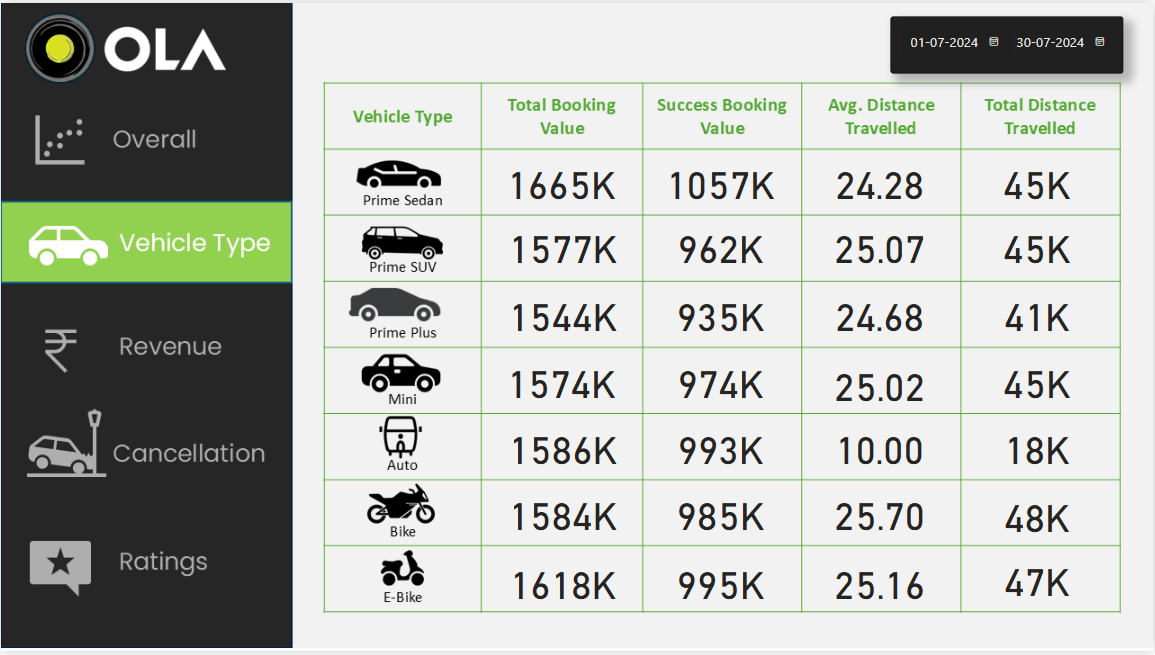

The page's visual inventory and layout, read from the dashboard file:
{"tool":"powerbi","page":{"name":"Vehical Type","canvas":[1280,720],"ordinal":1},"visuals":[{"type":"actionButton","box":[0,336.7,323.7,94.3],"z":0},{"type":"actionButton","box":[0,107.4,323.7,94.3],"z":1000},{"type":"actionButton","box":[0,447.3,323.7,94.3],"z":2000},{"type":"actionButton","box":[0,574.2,323.7,94.3],"z":3000},{"type":"card","fields":{"Values":["Sum(July.Booking_Value)"]},"box":[550,173.3,145,55],"z":4000},{"type":"card","fields":{"Values":["Sum(July.Booking_Value)"]},"box":[551.7,241.7,145,60],"z":5000},{"type":"card","fields":{"Values":["Sum(July.Booking_Value)"]},"box":[551.7,316.7,145,60],"z":6000},{"type":"card","fields":{"Values":["Sum(July.Booking_Value)"]},"box":[550,388.3,145,66.7],"z":7000},{"type":"card","fields":{"Values":["Sum(July.Booking_Value)"]},"box":[551.7,465,145,60],"z":8000},{"type":"card","fields":{"Values":["Sum(July.Booking_Value)"]},"box":[551.7,540,145,56.7],"z":9000},{"type":"card","fields":{"Values":["Sum(July.Booking_Value)"]},"box":[551.7,611.7,145,66.7],"z":10000},{"type":"card","fields":{"Values":["Sum(July.Booking_Value)"]},"box":[726.7,173.3,145,55],"z":11000},{"type":"card","fields":{"Values":["Sum(July.Booking_Value)"]},"box":[726.7,241.7,145,60],"z":12000},{"type":"card","fields":{"Values":["Sum(July.Booking_Value)"]},"box":[726.7,316.7,145,60],"z":13000},{"type":"card","fields":{"Values":["Sum(July.Booking_Value)"]},"box":[726.7,391.7,145,60],"z":14000},{"type":"card","fields":{"Values":["Sum(July.Booking_Value)"]},"box":[726.7,465,145,60],"z":15000},{"type":"card","fields":{"Values":["Sum(July.Booking_Value)"]},"box":[726.7,538.3,145,60],"z":16000},{"type":"card","fields":{"Values":["Sum(July.Booking_Value)"]},"box":[726.7,615,145,60],"z":17000},{"type":"card","fields":{"Values":["Avg(July.Ride_Distance)"]},"box":[903.3,173.3,145,55],"z":18000},{"type":"card","fields":{"Values":["Avg(July.Ride_Distance)"]},"box":[903.3,241.7,145,60],"z":19000},{"type":"card","fields":{"Values":["Avg(July.Ride_Distance)"]},"box":[903.3,316.7,145,60],"z":20000},{"type":"card","fields":{"Values":["Avg(July.Ride_Distance)"]},"box":[903.3,395,145,60],"z":21000},{"type":"card","fields":{"Values":["Avg(July.Ride_Distance)"]},"box":[903.3,465,145,60],"z":22000},{"type":"card","fields":{"Values":["Avg(July.Ride_Distance)"]},"box":[903.3,538.3,145,60],"z":23000},{"type":"card","fields":{"Values":["Avg(July.Ride_Distance)"]},"box":[903.3,615,145,60],"z":24000},{"type":"card","fields":{"Values":["Sum(July.Ride_Distance)"]},"box":[1078.3,173.3,145,55],"z":25000},{"type":"card","fields":{"Values":["Sum(July.Ride_Distance)"]},"box":[1078.3,241.7,145,60],"z":26000},{"type":"card","fields":{"Values":["Sum(July.Ride_Distance)"]},"box":[1078.3,316.7,145,60],"z":27000},{"type":"card","fields":{"Values":["Sum(July.Ride_Distance)"]},"box":[1078.3,391.7,145,60],"z":27001},{"type":"card","fields":{"Values":["Sum(July.Ride_Distance)"]},"box":[1078.3,465,145,60],"z":27002},{"type":"card","fields":{"Values":["Sum(July.Ride_Distance)"]},"box":[1078.3,540,145,60],"z":27003},{"type":"card","fields":{"Values":["Sum(July.Ride_Distance)"]},"box":[1078.3,611.7,145,60],"z":27004},{"type":"slicer","title":"Date","fields":{"Values":["July.Date"]},"box":[988.3,15,258.3,63.3],"z":27005}]}

Visuals, with their boxes on the page's 1280x720 design canvas (x1, y1, x2, y2). These are canvas units, not pixel positions in the 1155x655 screenshot, which may show the page scaled, cropped or inside an application window:
actionButton: bbox=[0, 337, 324, 431]
actionButton: bbox=[0, 107, 324, 202]
actionButton: bbox=[0, 447, 324, 542]
actionButton: bbox=[0, 574, 324, 668]
card - Sum(July.Booking_Value): bbox=[550, 173, 695, 228]
card - Sum(July.Booking_Value): bbox=[552, 242, 697, 302]
card - Sum(July.Booking_Value): bbox=[552, 317, 697, 377]
card - Sum(July.Booking_Value): bbox=[550, 388, 695, 455]
card - Sum(July.Booking_Value): bbox=[552, 465, 697, 525]
card - Sum(July.Booking_Value): bbox=[552, 540, 697, 597]
card - Sum(July.Booking_Value): bbox=[552, 612, 697, 678]
card - Sum(July.Booking_Value): bbox=[727, 173, 872, 228]
card - Sum(July.Booking_Value): bbox=[727, 242, 872, 302]
card - Sum(July.Booking_Value): bbox=[727, 317, 872, 377]
card - Sum(July.Booking_Value): bbox=[727, 392, 872, 452]
card - Sum(July.Booking_Value): bbox=[727, 465, 872, 525]
card - Sum(July.Booking_Value): bbox=[727, 538, 872, 598]
card - Sum(July.Booking_Value): bbox=[727, 615, 872, 675]
card - Avg(July.Ride_Distance): bbox=[903, 173, 1048, 228]
card - Avg(July.Ride_Distance): bbox=[903, 242, 1048, 302]
card - Avg(July.Ride_Distance): bbox=[903, 317, 1048, 377]
card - Avg(July.Ride_Distance): bbox=[903, 395, 1048, 455]
card - Avg(July.Ride_Distance): bbox=[903, 465, 1048, 525]
card - Avg(July.Ride_Distance): bbox=[903, 538, 1048, 598]
card - Avg(July.Ride_Distance): bbox=[903, 615, 1048, 675]
card - Sum(July.Ride_Distance): bbox=[1078, 173, 1223, 228]
card - Sum(July.Ride_Distance): bbox=[1078, 242, 1223, 302]
card - Sum(July.Ride_Distance): bbox=[1078, 317, 1223, 377]
card - Sum(July.Ride_Distance): bbox=[1078, 392, 1223, 452]
card - Sum(July.Ride_Distance): bbox=[1078, 465, 1223, 525]
card - Sum(July.Ride_Distance): bbox=[1078, 540, 1223, 600]
card - Sum(July.Ride_Distance): bbox=[1078, 612, 1223, 672]
"Date" slicer: bbox=[988, 15, 1247, 78]
